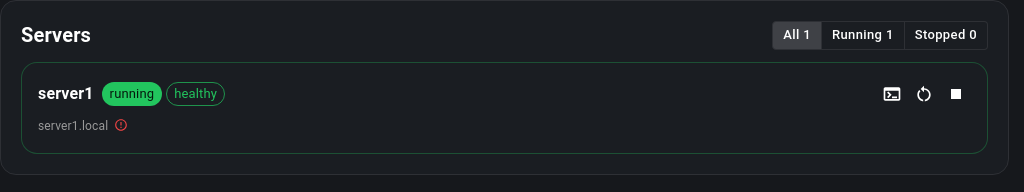
Test: ServerOverview › hostname copy › shows failed feedback in the tooltip
Hover over the button named "Copy hostname of server1": (121, 125) [112,116,130,134]
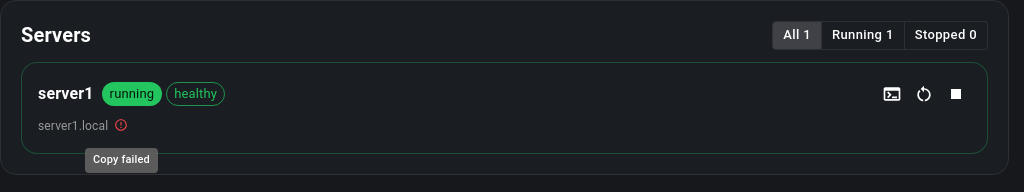
Now the tooltip reads "Copy failed", box [93,153,150,166]
